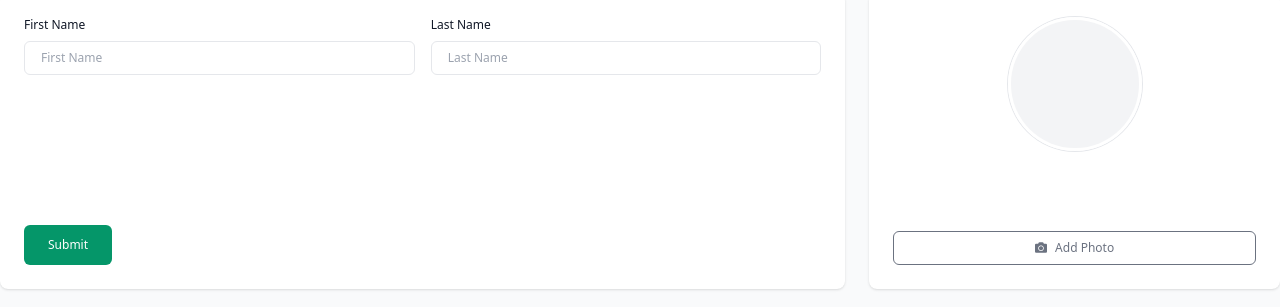
UserForm › changes button text from "Add Photo" to "Change Photo" after adding avatar
Click the button with test id "avatar-button" at coordinates (1075, 248), box [893, 231, 1256, 265]
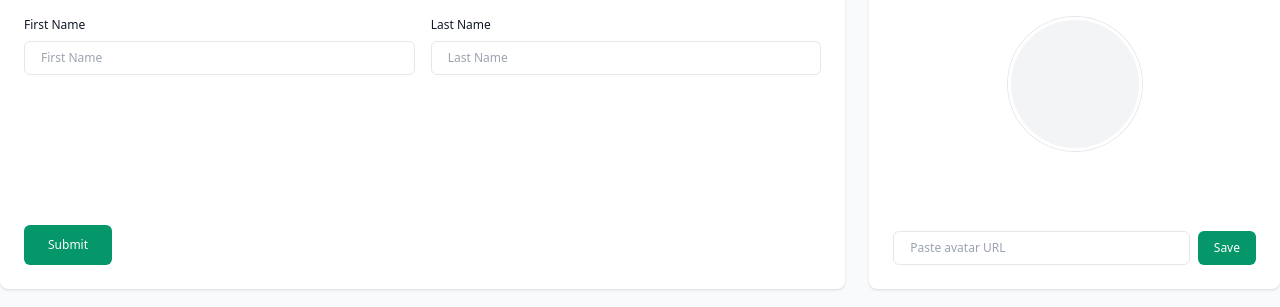
Type "https://example.com/avatar.jpg" into the field with test id "avatar-url-input" at coordinates (1042, 248), box [893, 231, 1190, 265]
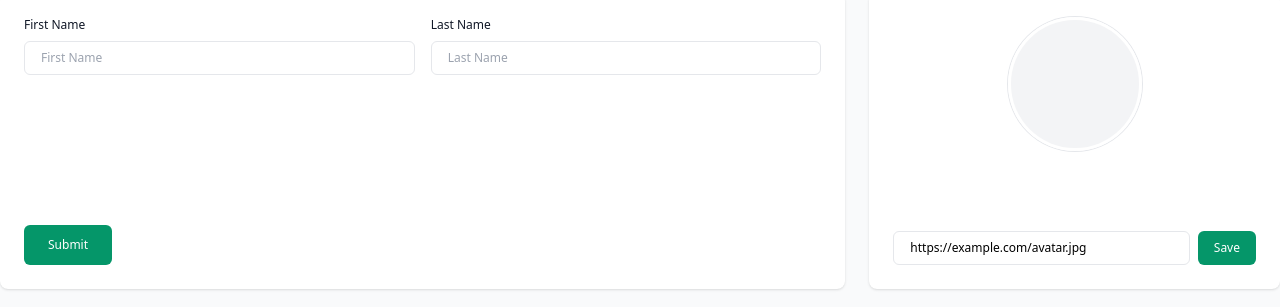
Click the button with test id "save-avatar-button" at coordinates (1227, 248), box [1198, 231, 1256, 265]
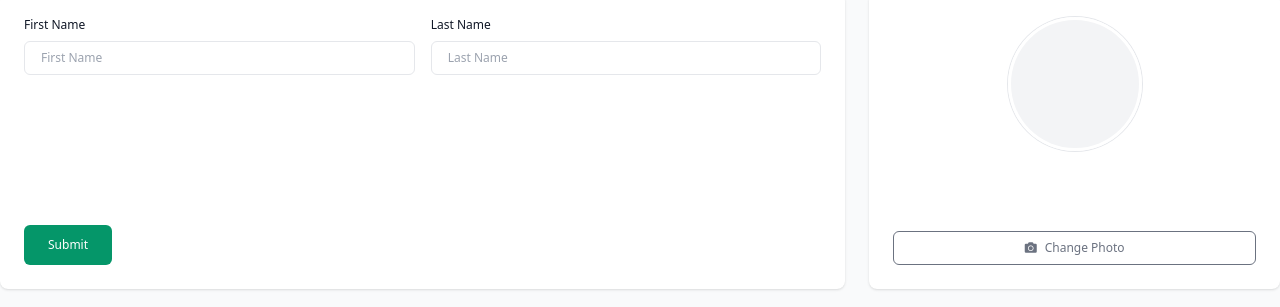
Check: the button with test id "avatar-button" reads "Change Photo", box [893, 231, 1256, 265]
